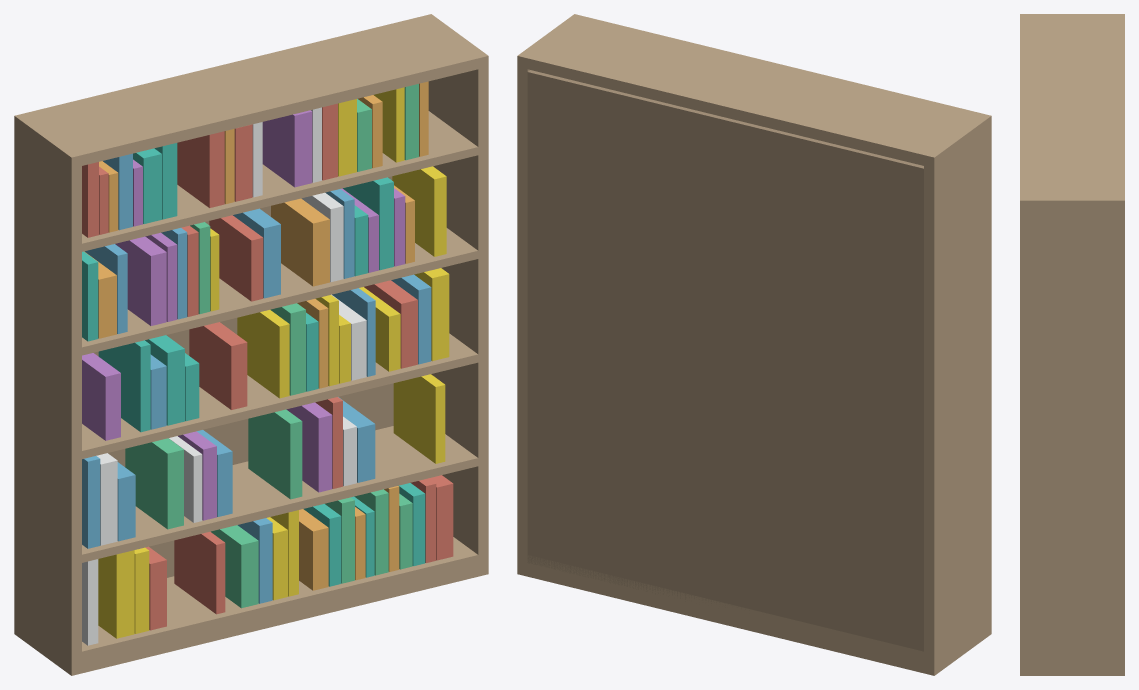
The model's file is bookshelf.glb.
3 renders of one model, left to right at view 1: azimuth 30°, elevation 25°; view 2: azimuth 150°, elevation 25°; view 3: azimuth 270°, elevation 25°, orthographic. The views are drawn at different scales.
Visible parts, largest first — view 1: bookshelf; view 2: bookshelf; view 3: bookshelf.
Boxes of the visible parts, left/top/right/bottom form: bookshelf: left=14, top=14, right=488, bottom=675; bookshelf: left=517, top=14, right=991, bottom=675; bookshelf: left=1020, top=14, right=1124, bottom=675.
Size of the model in its own units: 1.6 by 1.9 by 0.38.
